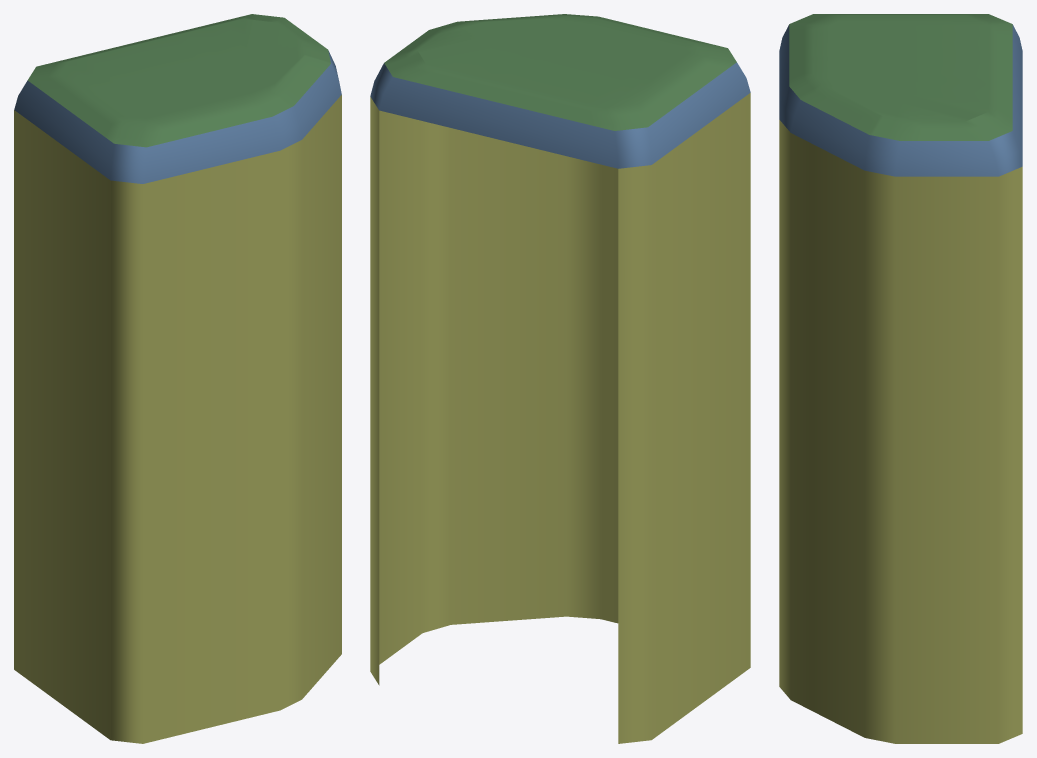
Rendered from PLat_Grande3.fbx.
3 renders of one model, left to right at view 1: azimuth 30°, elevation 25°; view 2: azimuth 150°, elevation 25°; view 3: azimuth 270°, elevation 25°, orthographic. The views are drawn at different scales.
Visible parts, largest first — view 1: PLat_Grande3, Ground6, Wall6; view 2: PLat_Grande3, Ground6, Wall6; view 3: PLat_Grande3, Ground6, Wall6.
Boxes of the visible parts, x1,y1,x2,y2 form: PLat_Grande3: (14, 95, 341, 743); Ground6: (27, 14, 330, 147); Wall6: (14, 50, 341, 183); PLat_Grande3: (370, 93, 750, 743); Ground6: (384, 14, 736, 130); Wall6: (370, 62, 750, 168); PLat_Grande3: (779, 120, 1022, 743); Ground6: (789, 14, 1012, 140); Wall6: (779, 24, 1022, 176).
Size of the model in its own units: 6737 by 14096 by 5117.
